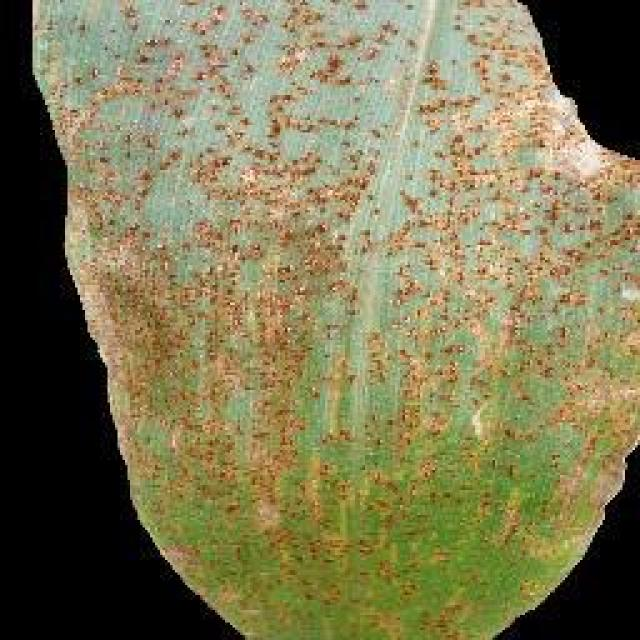Corn Common Rust: (100, 142, 608, 550)
